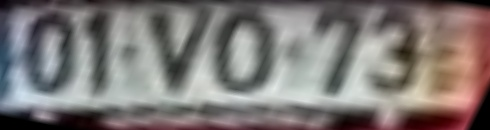0: (20, 13, 79, 104)
1: (78, 11, 115, 104)
3: (365, 8, 426, 101)
7: (309, 9, 375, 107)
O: (209, 9, 277, 103)
V: (142, 7, 224, 107)
